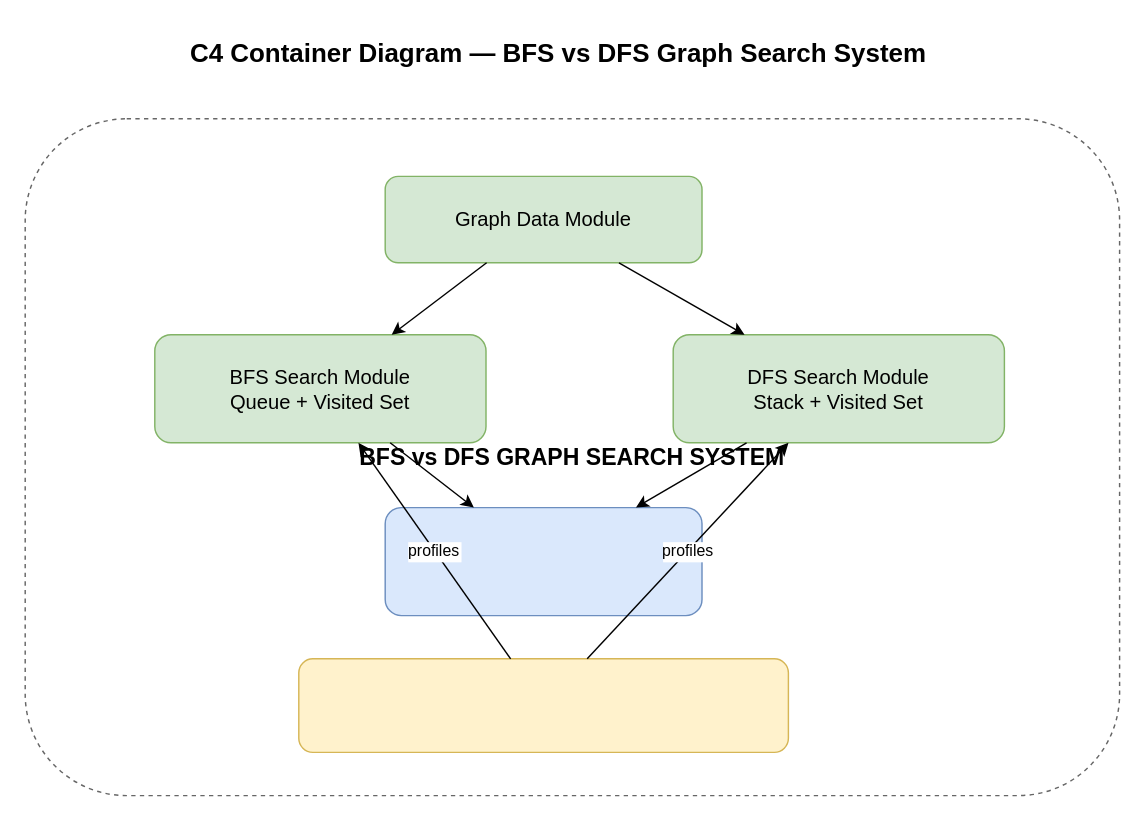
Some shapes in this 1145 by 821 pixel diagram are drawn without their labels. Here are the shapes that lost their labels. From the top down, the centre of each, then its label:
[543,561]: Output Module Algorithm + Nodes Expanded
[542,704]: Performance / Profiling Module Runs BFS/DFS repeatedly for py-spy
